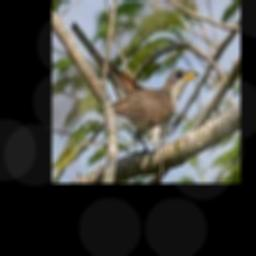Cuckoo: (71, 20, 200, 153)
